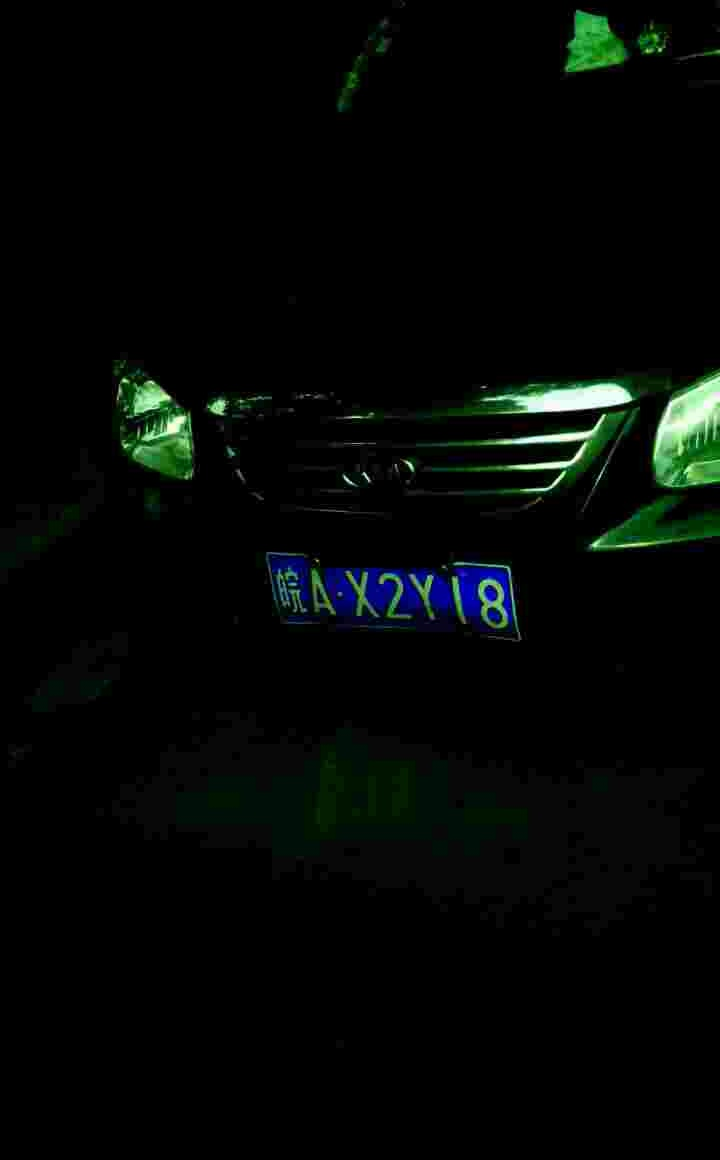car: (258, 543, 531, 640)
